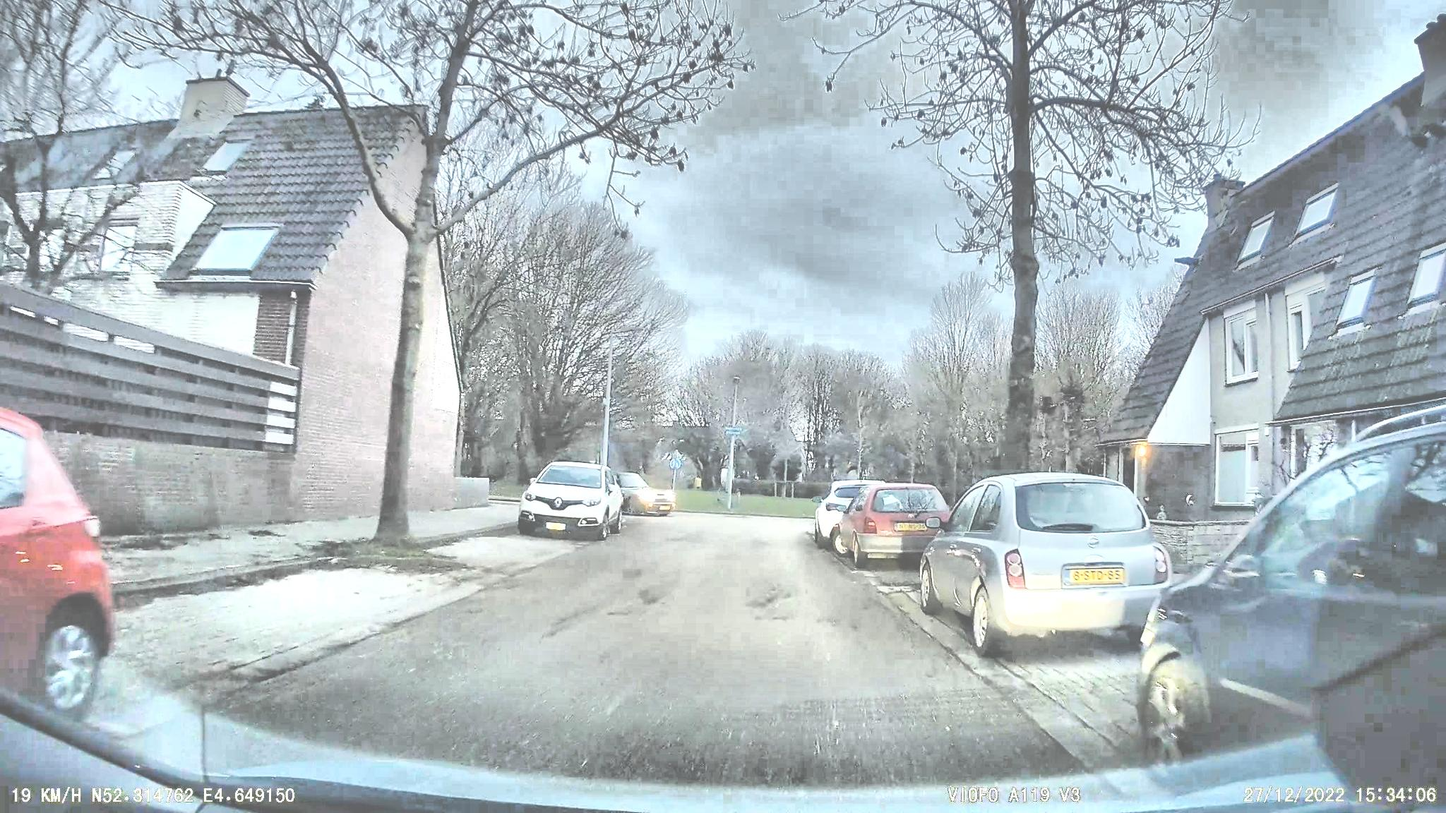Roads: (133, 517, 1138, 813)
